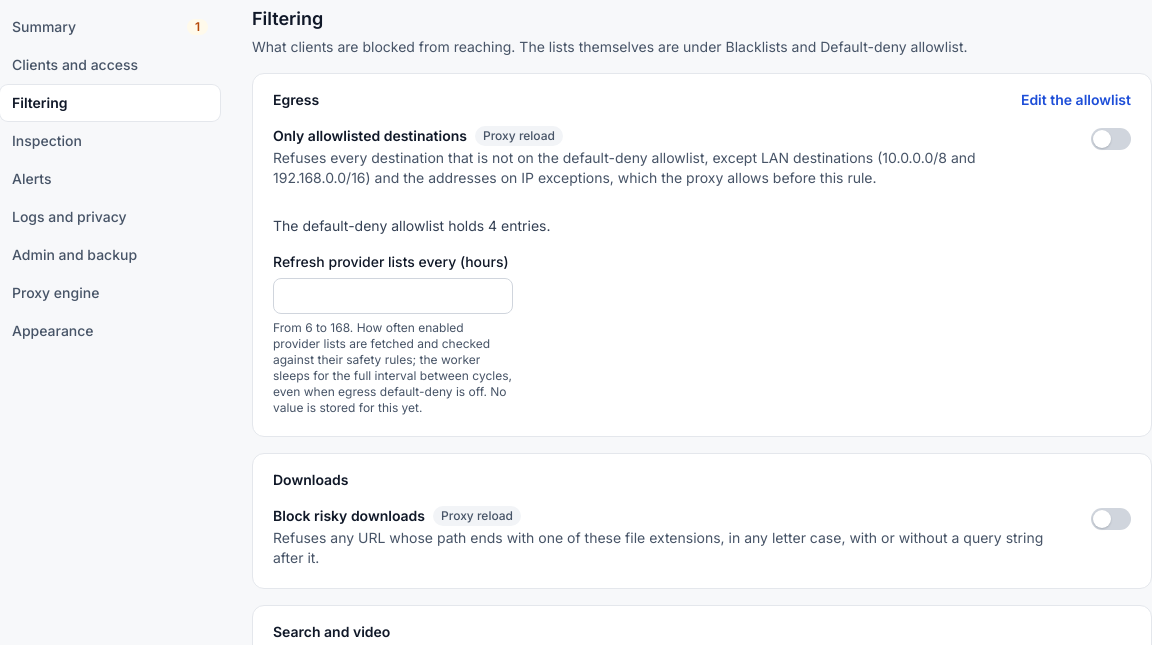
Test: Settings sections › Filtering › saves default-deny once the allowlist has entries
Expected: the text "The default-deny allowlist holds 4 entries." is shown, [273,216,550,234]
Click the switch named "Only allowlisted destinations" in the row of "Only allowlisted destinations": (1111, 138) [1091,128,1131,150]
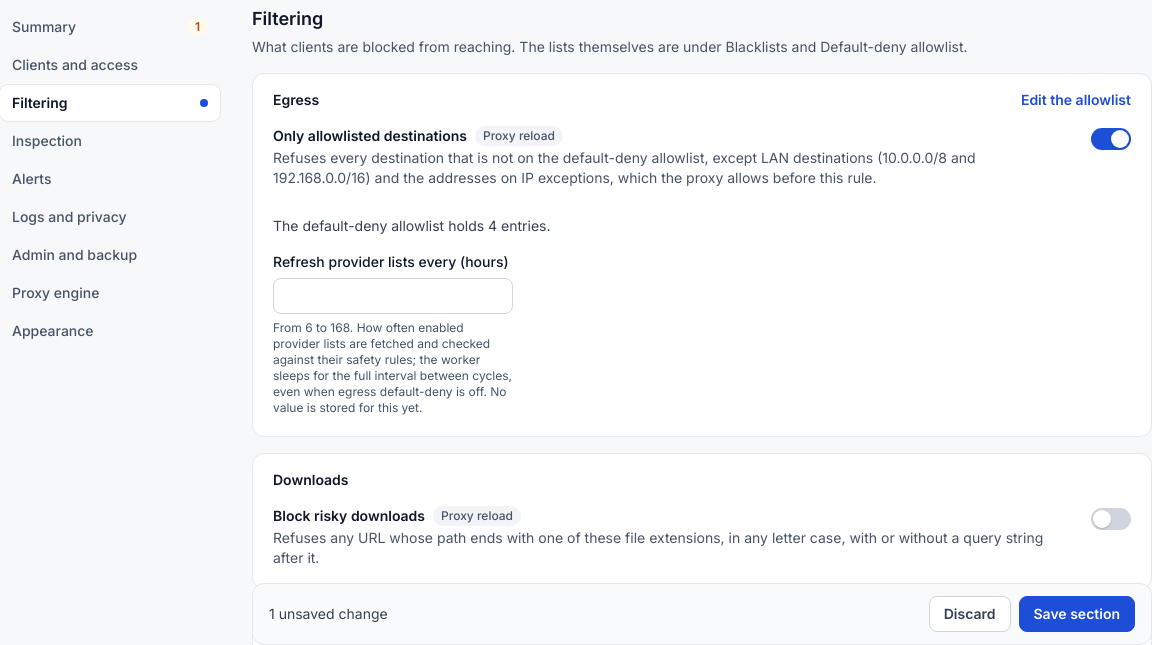
Click the button "Save section": (1077, 614) [1018,596,1135,632]
(page scrolled)
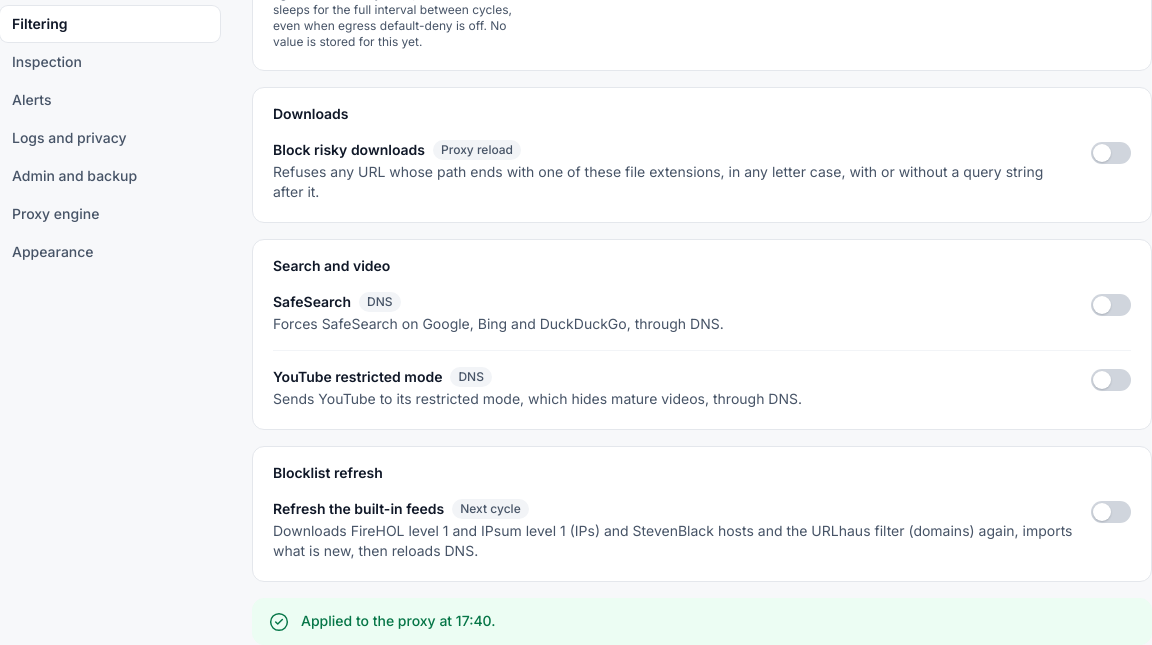
Result: the text "Applied to the proxy at 17:40." is shown at [301,612,496,628]
